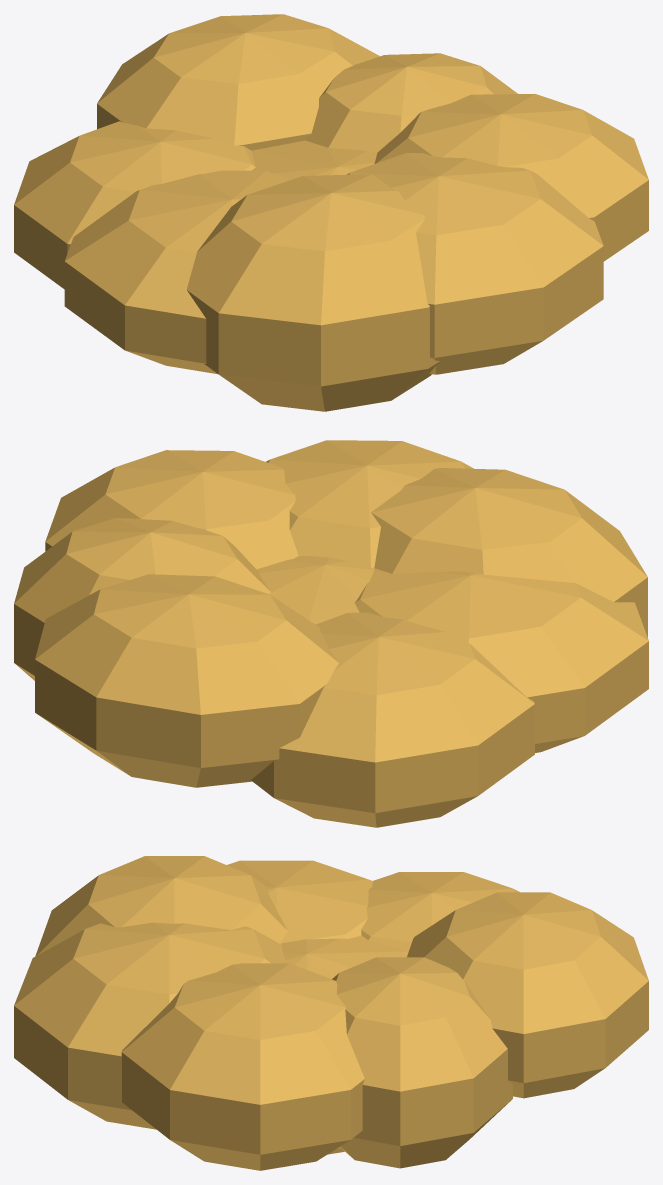
The model's file is coral_002b_rounded.glb.
The picture shows the model from 3 angles, top to bottom: view 1: azimuth 30°, elevation 25°; view 2: azimuth 150°, elevation 25°; view 3: azimuth 270°, elevation 25°; orthographic projection. The views are drawn at different scales.
Parts seen in each view (by area): view 1: coral_002b_rounded__mesh; view 2: coral_002b_rounded__mesh; view 3: coral_002b_rounded__mesh.
Boxes of the visible parts, box(x1,y1,x2,y2) form: coral_002b_rounded__mesh: box(14, 14, 648, 411); coral_002b_rounded__mesh: box(14, 440, 648, 827); coral_002b_rounded__mesh: box(14, 856, 648, 1170).
Size of the model in its own units: 1.18 by 0.4496 by 1.24.
